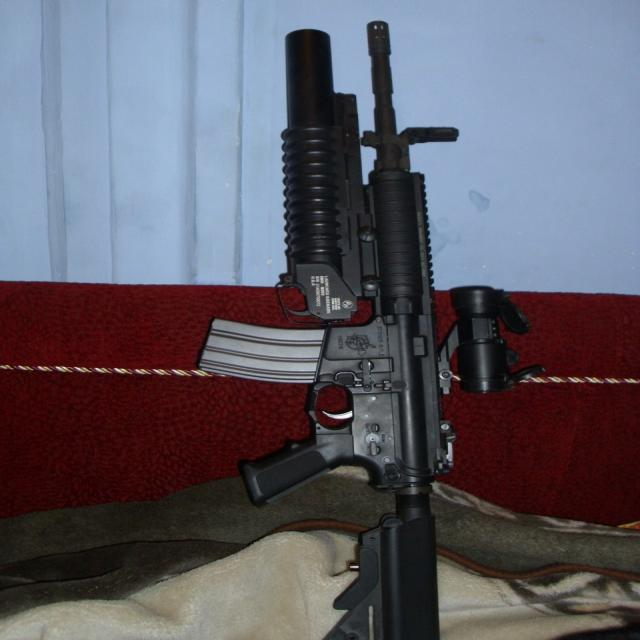firearm: (198, 20, 538, 640)
